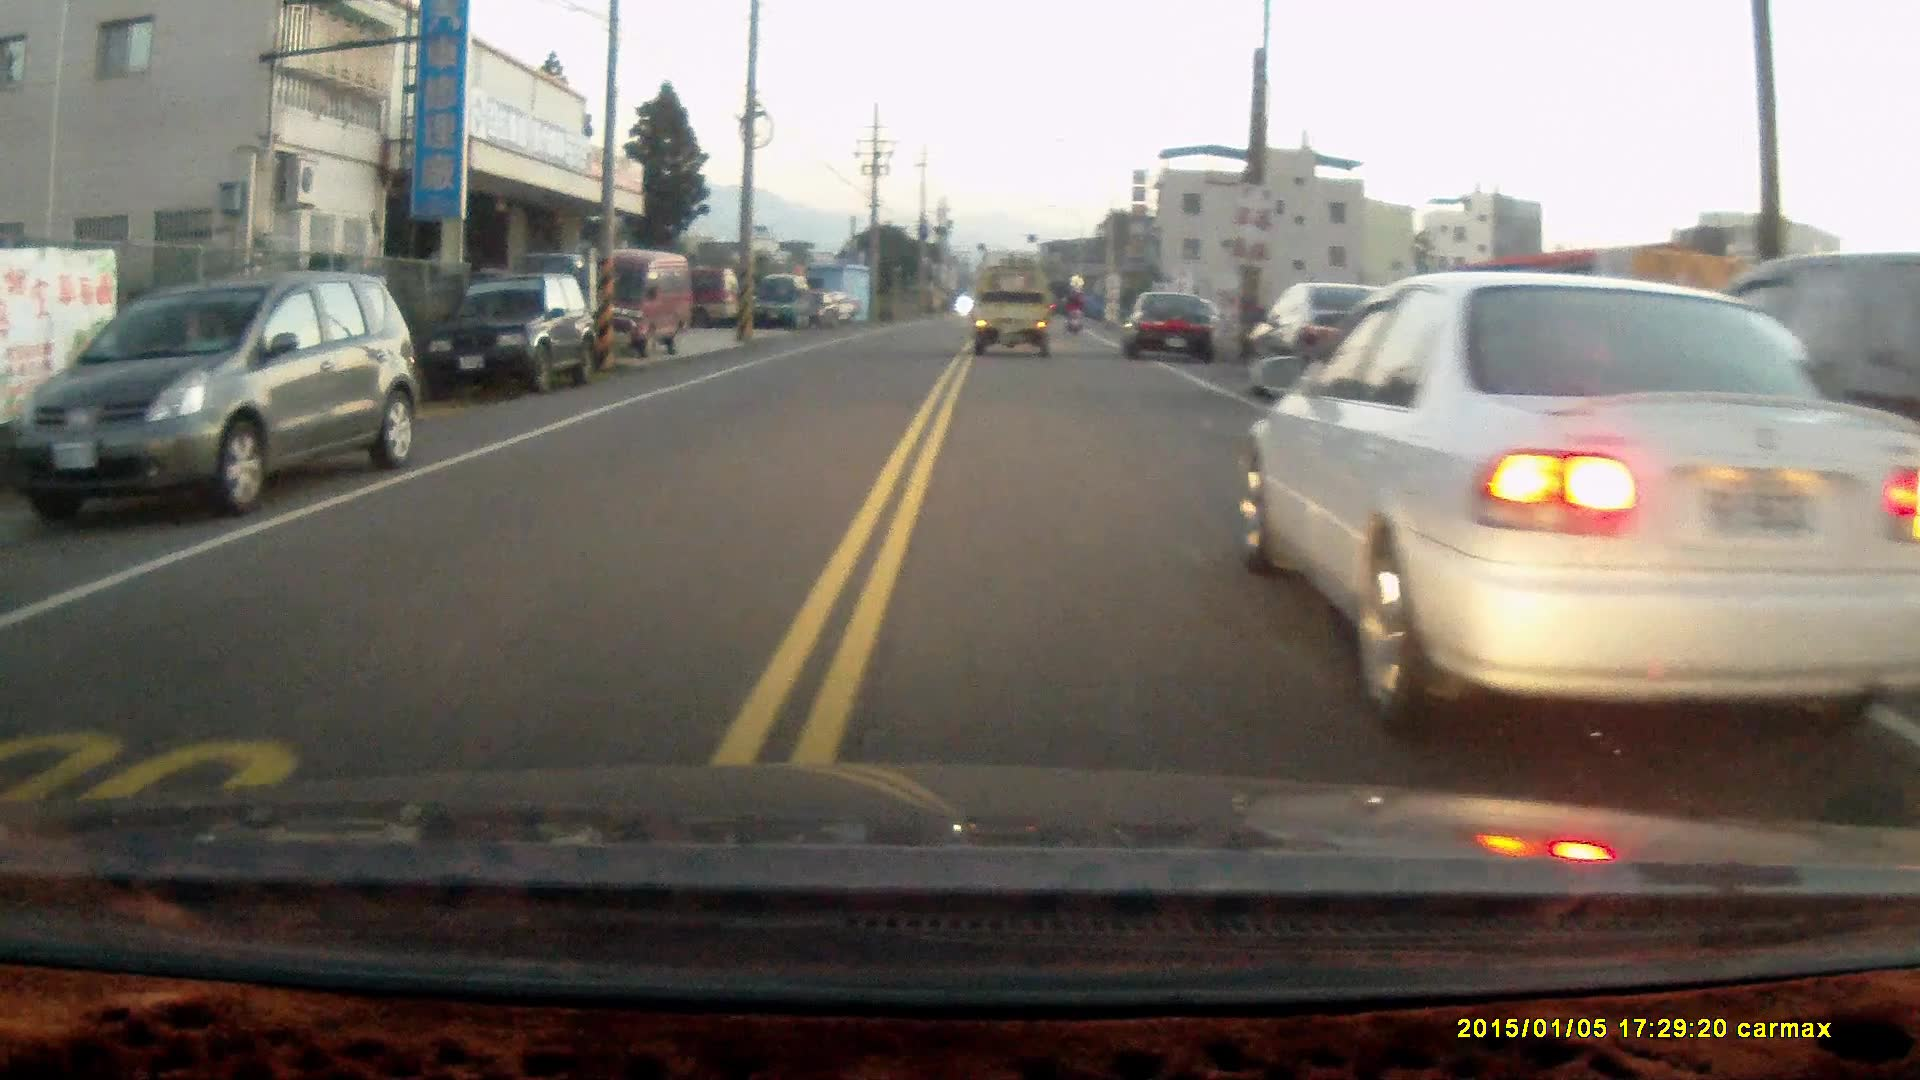rider: (1060, 287, 1087, 335)
vehicle: (1226, 267, 1920, 734), (1509, 254, 1920, 608), (11, 269, 413, 515), (1243, 279, 1431, 408), (433, 270, 600, 397), (569, 251, 696, 356), (966, 271, 1058, 358), (1119, 290, 1220, 363), (753, 273, 817, 333)
